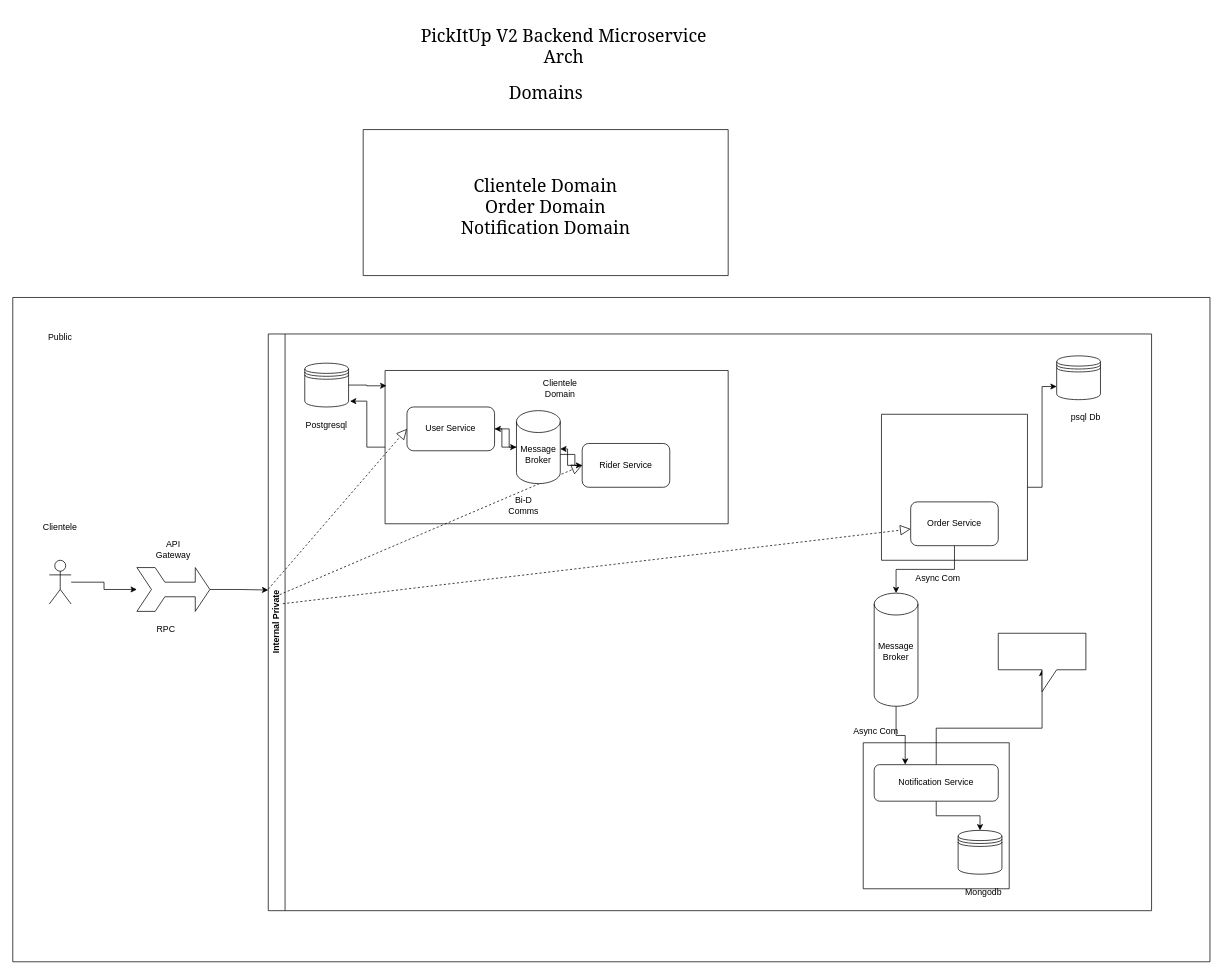
Some shapes in this 1223 by 975 pixel diagram are drawn without their labels. Here are the shapes that lost their labels. From the top down, the centre of each, then its label:
point 954,487: Order Domain
point 60,582: Actor
point 1042,662: SendMail
point 935,815: Notification Domain
